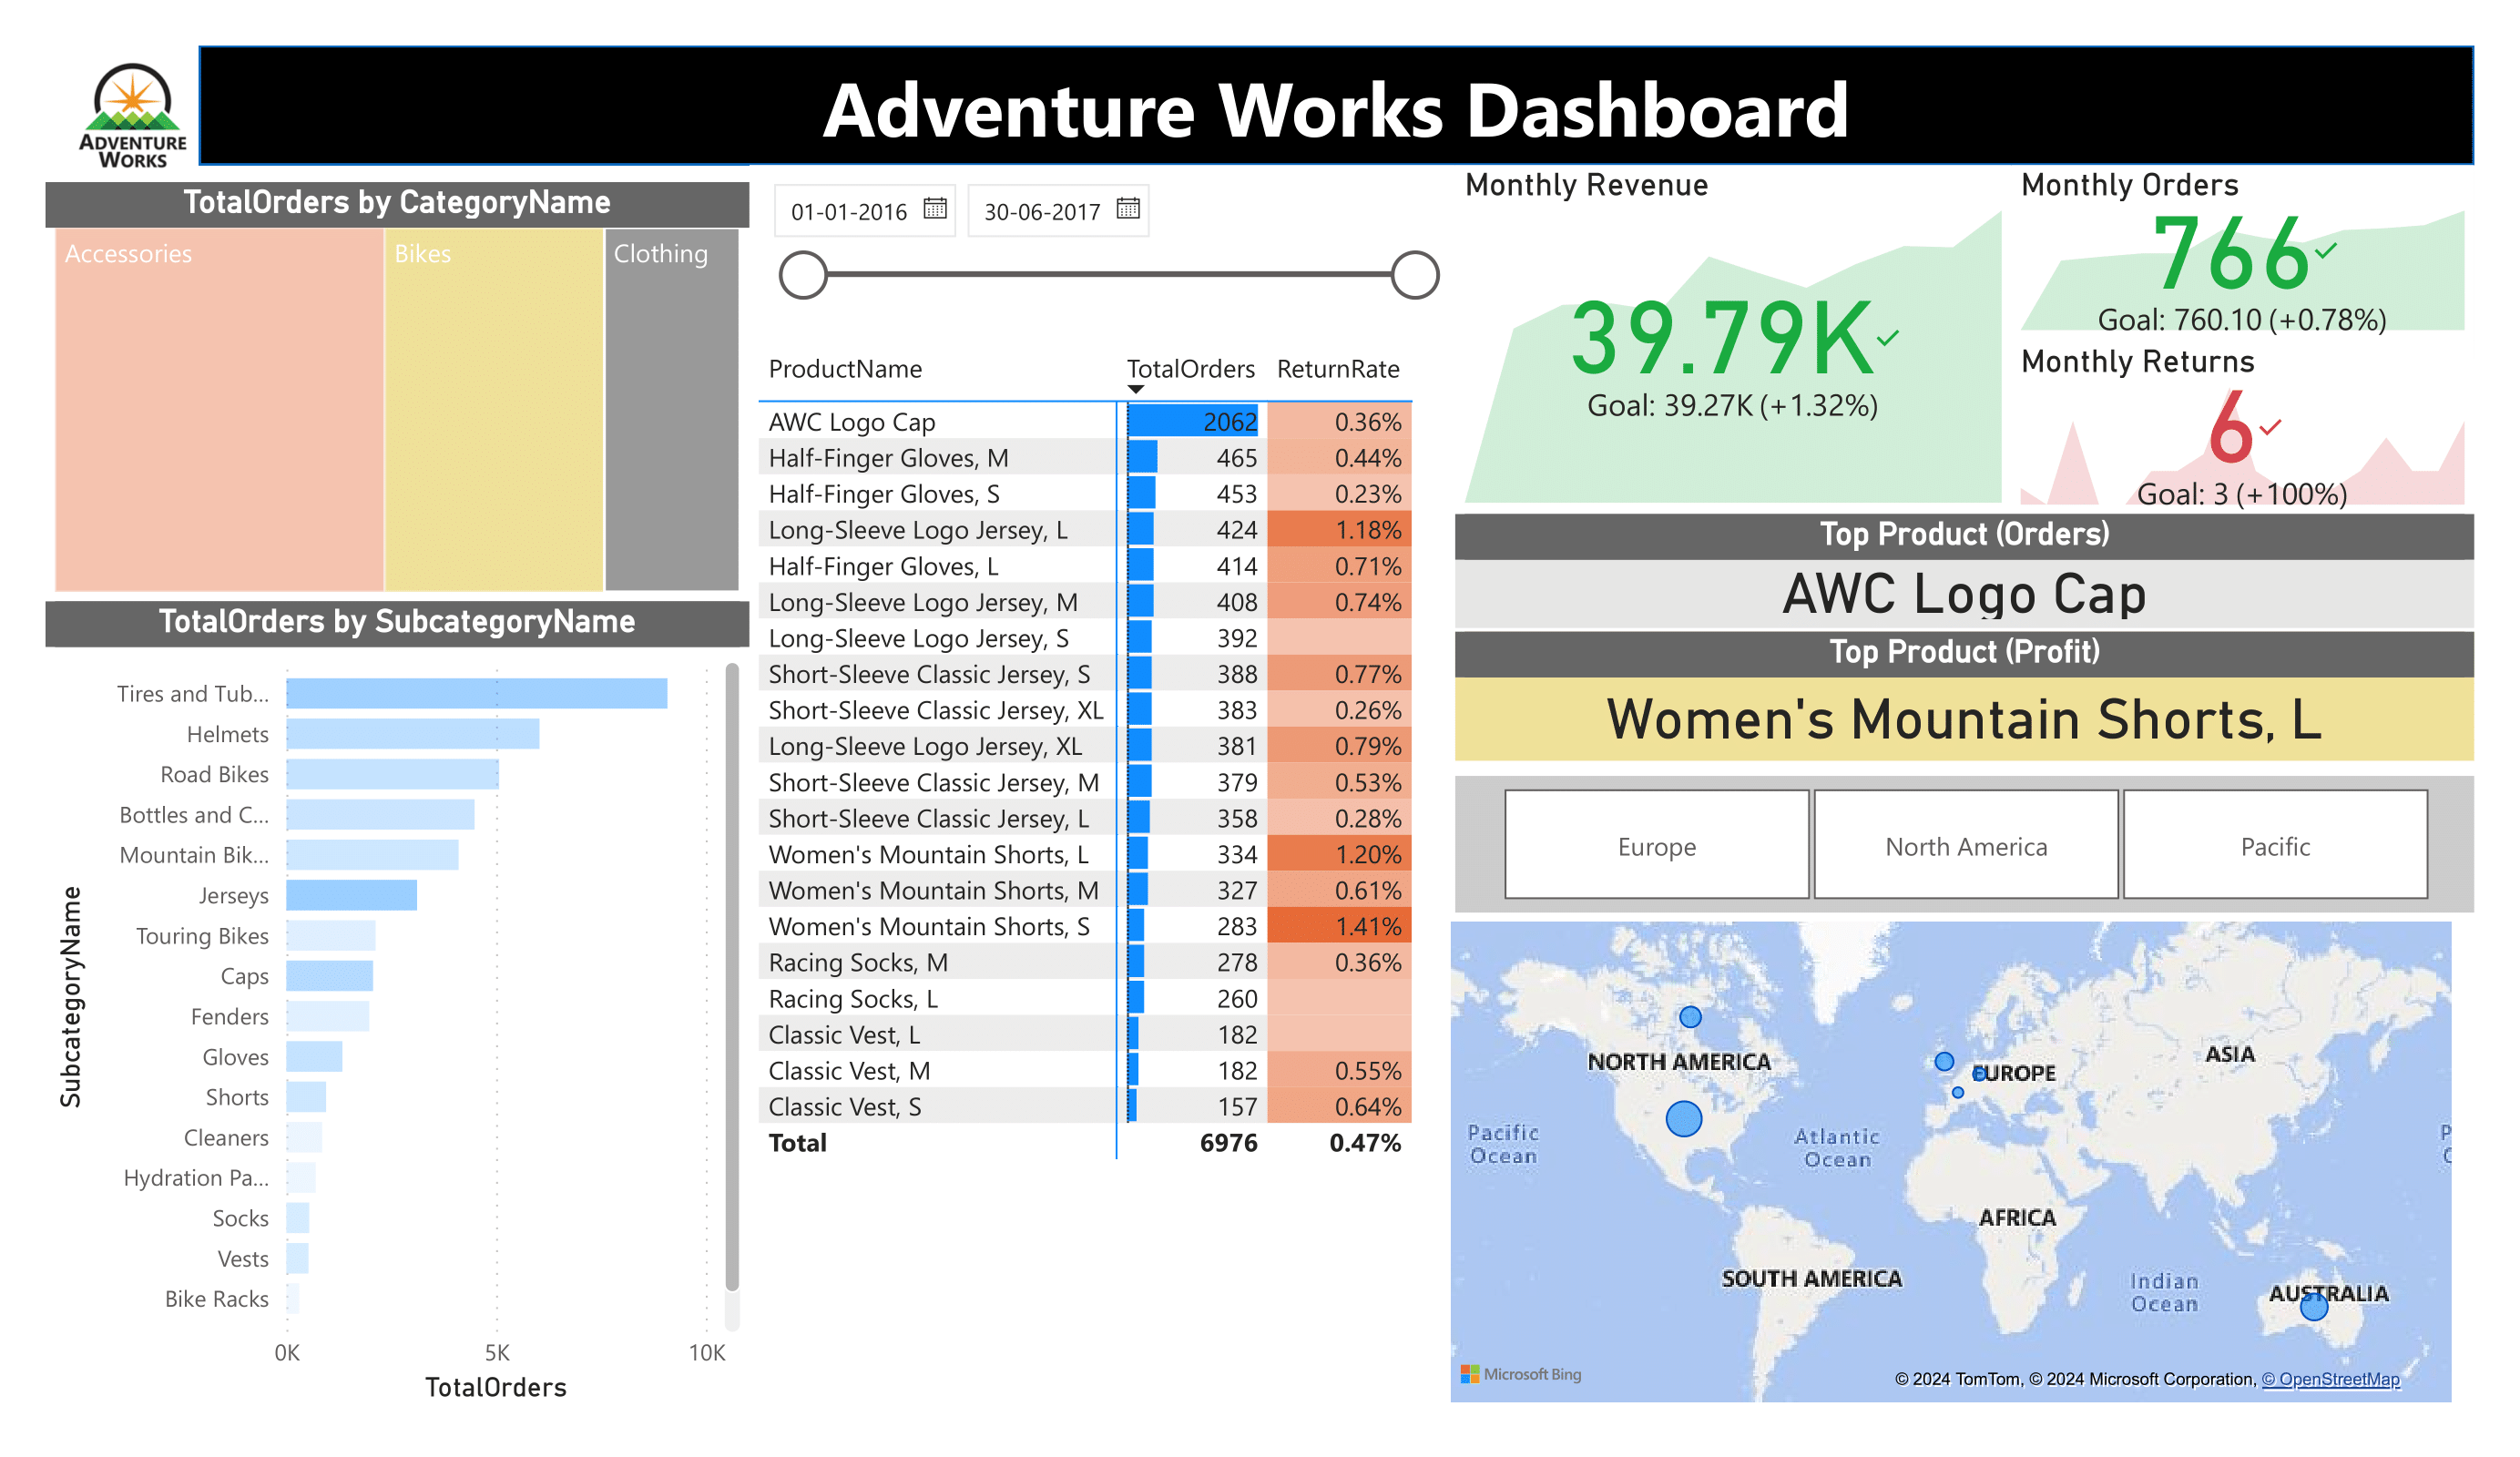

Layout of this report page (visuals, bound fields, positions):
{"tool":"powerbi","page":{"name":"Exec Summary","canvas":[1280,720],"ordinal":0},"visuals":[{"type":"image","box":[9.6,0,71.7,71.7],"z":0},{"type":"shape","box":[81.3,0,1198.7,63.1],"z":1000},{"type":"treemap","title":"TotalOrders by CategoryName","fields":{"Group":["Product_Categories.CategoryName"],"Values":["Sales_Data.TotalOrders"]},"box":[0,71.7,371.4,221.5],"z":2000},{"type":"barChart","title":"TotalOrders by SubcategoryName","fields":{"Y":["Sales_Data.TotalOrders"],"Category":["Product_Subcategories.SubcategoryName"]},"box":[0,293.2,371.4,427],"z":3000},{"type":"pivotTable","title":"TotalOrders by SubcategoryName","fields":{"Rows":["Products_Lookup.ProductName"],"Values":["Sales_Data.TotalOrders","Returns_Data.ReturnRate"]},"box":[371.4,155.2,371.4,565.1],"z":4000},{"type":"slicer","fields":{"Values":["Calendar_Lookup.Date"]},"box":[371.4,63.1,371.4,92],"z":5000},{"type":"kpi","title":"Monthly Revenue","fields":{"Indicator":["Sales_Data.TotalRevenue"],"TrendLine":["Calendar_Lookup.Start of Month"],"Goal":["Sales_Data.RevenueTarget"]},"box":[742.7,63.1,293.2,183],"z":6000},{"type":"kpi","title":"Monthly Orders","fields":{"TrendLine":["Calendar_Lookup.Start of Month"],"Indicator":["Sales_Data.TotalOrders"],"Goal":["Sales_Data.OrderTarget"]},"box":[1036,63.1,244,92],"z":7000},{"type":"kpi","title":"Monthly Returns","fields":{"TrendLine":["Calendar_Lookup.Start of Month"],"Goal":["Returns_Data.PrevMonthReturns"],"Indicator":["Returns_Data.TotalReturns"]},"box":[1036.1,155.8,243.6,91.3],"z":8000},{"type":"card","title":"Top Product (Orders)","fields":{"Values":["Min(Products_Lookup.ProductName)"]},"box":[742.7,247.2,537.3,59.9],"z":9000},{"type":"card","title":"Top Product (Profit)","fields":{"Values":["Min(Products_Lookup.ProductName)"]},"box":[742.7,309.3,537.3,67.4],"z":10000},{"type":"map","fields":{"Category":["Territories_Lookup.Country"],"Size":["Sales_Data.TotalOrders"]},"box":[742.7,457,537.3,263.3],"z":11000},{"type":"slicer","fields":{"Values":["Territories_Lookup.Continent"]},"box":[742.7,385.3,537.3,71.7],"z":12000}]}

Visuals, with their boxes in screenshot pixels (x1, y1, x2, y2):
image: [64,46,199,181]
shape: [199,46,2474,165]
"TotalOrders by CategoryName" treemap: [46,181,750,602]
"TotalOrders by SubcategoryName" barChart: [46,602,750,1411]
"TotalOrders by SubcategoryName" pivotTable: [750,340,1455,1411]
slicer - Calendar_Lookup.Date: [750,165,1455,340]
"Monthly Revenue" kpi: [1454,165,2011,513]
"Monthly Orders" kpi: [2012,165,2474,340]
"Monthly Returns" kpi: [2012,341,2474,515]
"Top Product (Orders)" card: [1454,515,2474,628]
"Top Product (Profit)" card: [1454,632,2474,760]
map - Territories_Lookup.Country x Sales_Data.TotalOrders: [1454,912,2474,1411]
slicer - Territories_Lookup.Continent: [1454,777,2474,912]
